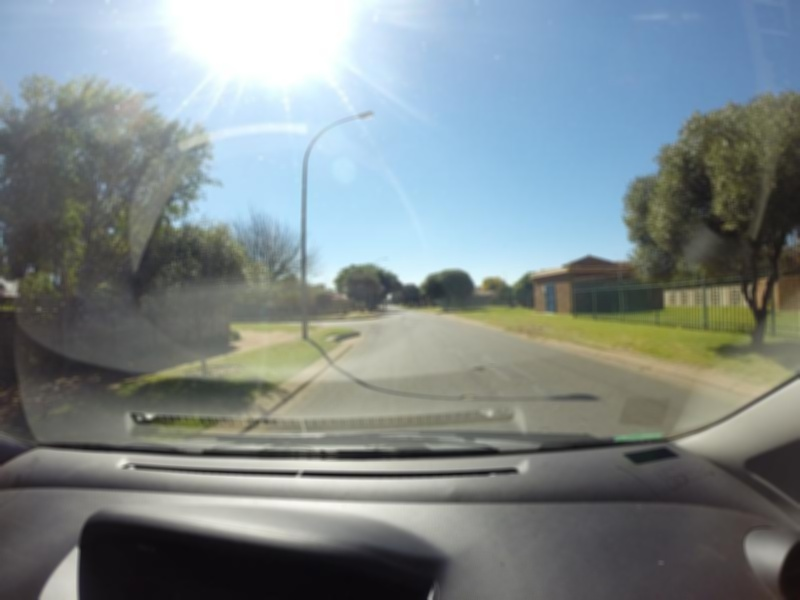pothole: (476, 364, 492, 376), (457, 392, 476, 402)
